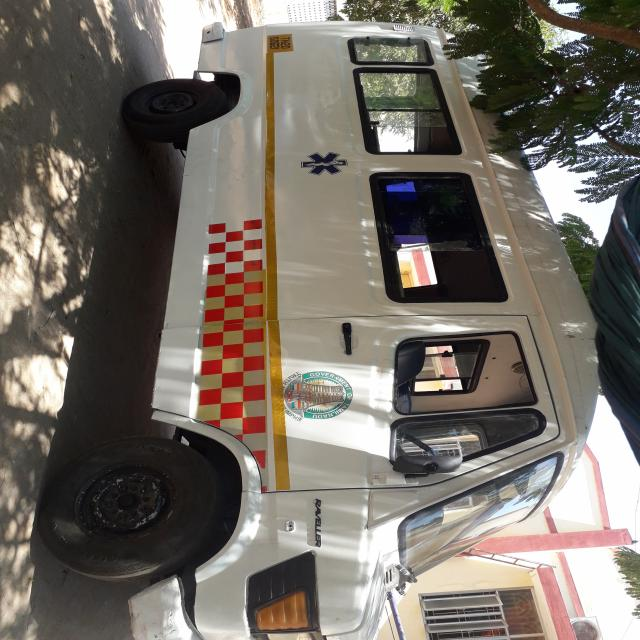Bus: (51, 2, 608, 640)
